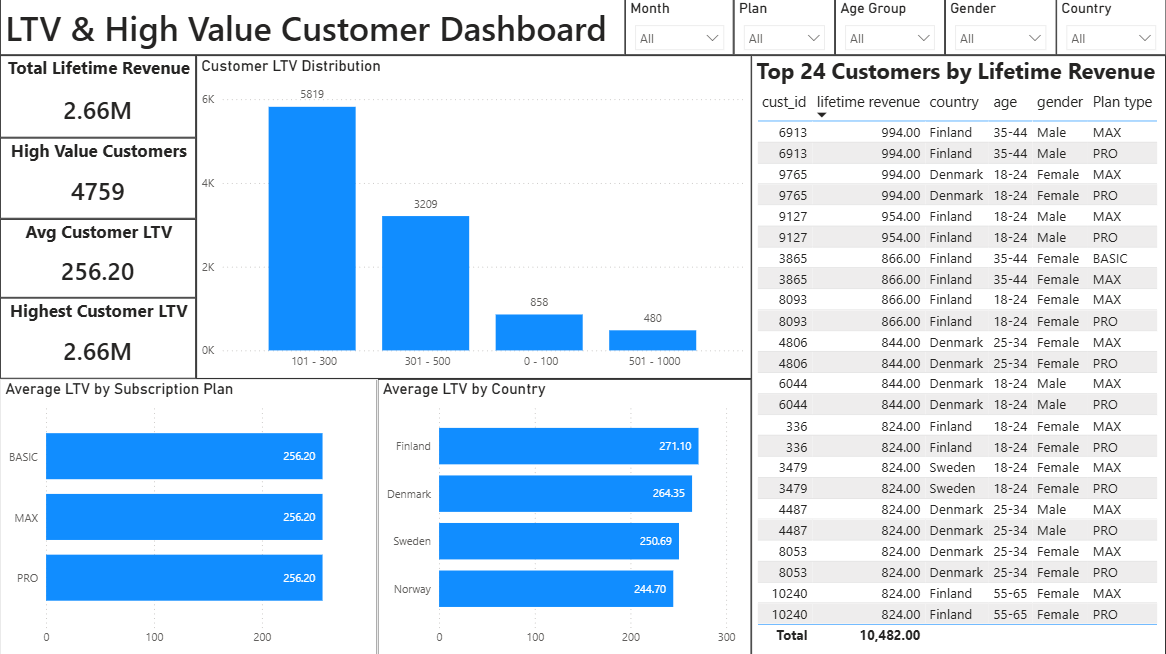

The dashboard page shown, as its layout file describes it:
{"tool":"powerbi","page":{"name":"LTV & High Value Customer","canvas":[1280,720],"ordinal":3},"visuals":[{"type":"cardVisual","title":"Avg Customer LTV","fields":{"Data":["FactSubPeriods.Avg LTV"]},"box":[0,241.5,215.4,86.4],"z":0},{"type":"textbox","box":[0,0,686.1,61.7],"z":1000},{"type":"tableEx","title":"Top 24 Customers by Lifetime Revenue","fields":{"Values":["UserLTV.cust_id","Sum(UserLTV.lifetime_revenue)","DimCustomer.customer_country","DimCustomer.age_group","DimCustomer.customer_gender","DimPlan.subscription_type"]},"box":[824.7,61.7,455.6,658.7],"z":2000},{"type":"clusteredBarChart","title":"Average LTV by Country","fields":{"Category":["DimCustomer.customer_country"],"Y":["FactSubPeriods.Avg LTV"]},"box":[414.4,417.2,410.3,303.3],"z":3000},{"type":"clusteredBarChart","title":"Average LTV by Subscription Plan","fields":{"Category":["DimPlan.subscription_type"],"Y":["FactSubPeriods.Avg LTV"]},"box":[0,417.2,414.4,303.3],"z":4000},{"type":"slicer","title":"Plan","fields":{"Values":["DimPlan.subscription_type"]},"box":[805.5,0,111.1,61.7],"z":5000},{"type":"slicer","title":"Country","fields":{"Values":["DimCustomer.customer_country"]},"box":[1159.5,0,120.8,61.7],"z":6000},{"type":"slicer","title":"Age Group","fields":{"Values":["DimCustomer.age_group"]},"box":[916.6,0,120.8,61.7],"z":7000},{"type":"slicer","title":"Gender","fields":{"Values":["DimCustomer.customer_gender"]},"box":[1037.4,0,122.1,61.7],"z":8000},{"type":"slicer","title":"Month","fields":{"Values":["DimDate.month_start"]},"box":[686.1,0,119.4,61.7],"z":9000},{"type":"cardVisual","title":"High Value Customers","fields":{"Data":["UserLTV.High Value Customers"]},"box":[0,152.3,215.4,89.2],"z":10000},{"type":"cardVisual","title":"Total Lifetime Revenue","fields":{"Data":["FactSubPeriods.Total LTV"]},"box":[0,61.7,215.4,90.6],"z":11000},{"type":"cardVisual","title":"Highest Customer LTV","fields":{"Data":["Sum(UserLTV.lifetime_revenue)"]},"box":[0,328,215.4,89.2],"z":12000},{"type":"clusteredColumnChart","title":"Customer LTV Distribution","fields":{"Category":["UserLTV.LTV Bucket"],"Y":["CountNonNull(UserLTV.cust_id)"]},"box":[215.4,61.7,609.3,355.4],"z":13000}]}

Visuals, with their boxes in screenshot pixels (x1, y1, x2, y2), scaled from the page's 1280x720 canvas onto the 1166x654 screenshot:
"Avg Customer LTV" cardVisual: [0, 219, 196, 298]
textbox: [0, 0, 625, 56]
"Top 24 Customers by Lifetime Revenue" tableEx: [751, 56, 1165, 653]
"Average LTV by Country" clusteredBarChart: [377, 379, 751, 653]
"Average LTV by Subscription Plan" clusteredBarChart: [0, 379, 377, 653]
"Plan" slicer: [734, 0, 835, 56]
"Country" slicer: [1056, 0, 1165, 56]
"Age Group" slicer: [835, 0, 945, 56]
"Gender" slicer: [945, 0, 1056, 56]
"Month" slicer: [625, 0, 734, 56]
"High Value Customers" cardVisual: [0, 138, 196, 219]
"Total Lifetime Revenue" cardVisual: [0, 56, 196, 138]
"Highest Customer LTV" cardVisual: [0, 298, 196, 379]
"Customer LTV Distribution" clusteredColumnChart: [196, 56, 751, 379]
